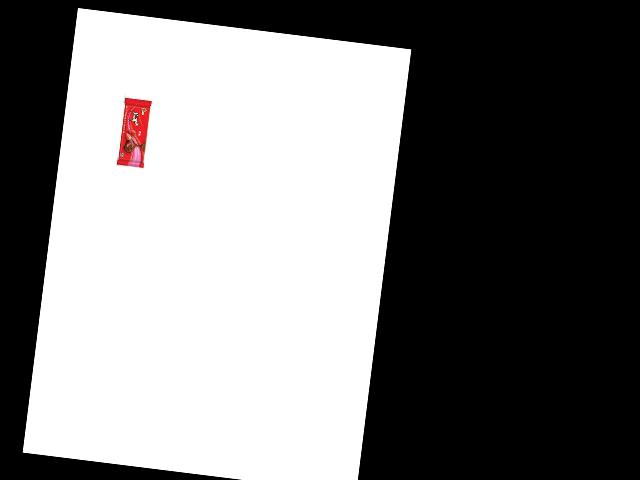chocolate: (111, 91, 152, 168)
